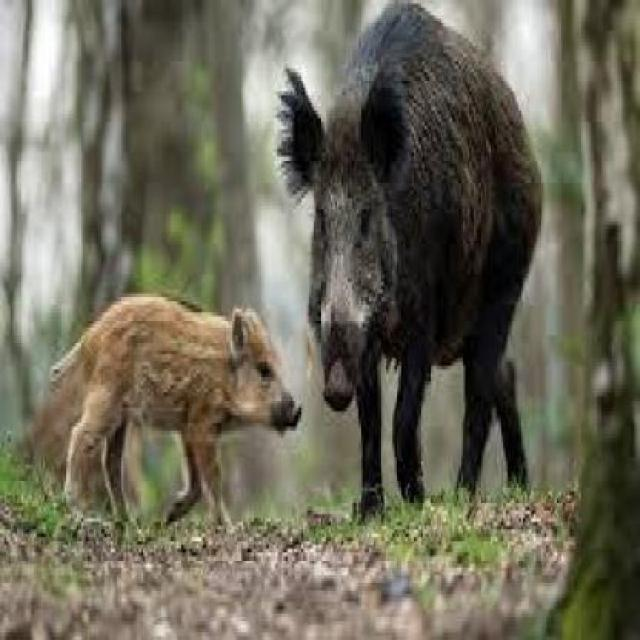wildboar: (272, 0, 548, 528), (48, 292, 300, 540)
